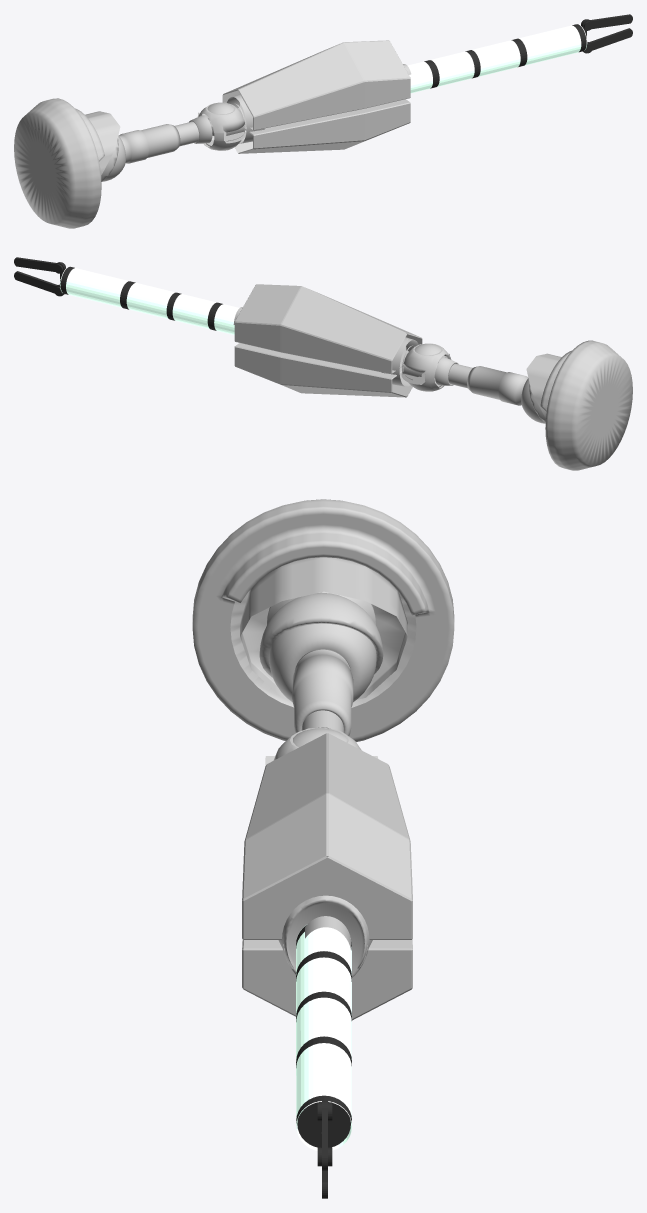
File: rightarm.fbx
The picture shows the model from 3 angles, top to bottom: view 1: azimuth 30°, elevation 25°; view 2: azimuth 150°, elevation 25°; view 3: azimuth 270°, elevation 25°; orthographic projection. The views are drawn at different scales.
Parts seen in each view (by area): view 1: LeftForearm, LeftArm.002, Cylinder.121, LeftElbow, UpperLeftArm, Cylinder.122, Cylinder.123, Cylinder.125; view 2: LeftForearm, LeftArm.002, Cylinder.121, LeftElbow, UpperLeftArm, Cylinder.122, Cylinder.123, Cylinder.125; view 3: LeftArm.002, LeftForearm, Cylinder.121, UpperLeftArm, Cylinder.122, LeftElbow, Cylinder.127.
Part boxes in pixels (x1,y1,x2,y2): LeftForearm: [197, 40, 411, 153]; LeftArm.002: [14, 98, 125, 228]; Cylinder.121: [407, 24, 587, 93]; LeftElbow: [175, 102, 245, 150]; UpperLeftArm: [119, 124, 180, 163]; Cylinder.122: [424, 24, 586, 88]; Cylinder.123: [581, 14, 632, 30]; Cylinder.125: [583, 28, 632, 53]; LeftForearm: [233, 284, 449, 397]; LeftArm.002: [521, 340, 632, 470]; Cylinder.121: [60, 266, 239, 335]; LeftElbow: [402, 339, 472, 391]; UpperLeftArm: [467, 366, 528, 405]; Cylinder.122: [60, 266, 222, 330]; Cylinder.123: [14, 257, 65, 273]; Cylinder.125: [14, 271, 64, 296]; LeftArm.002: [192, 499, 454, 741]; LeftForearm: [242, 733, 412, 1020]; Cylinder.121: [296, 924, 351, 1150]; UpperLeftArm: [292, 649, 353, 735]; Cylinder.122: [296, 925, 351, 1123]; LeftElbow: [273, 710, 361, 760]; Cylinder.127: [297, 1102, 350, 1147].
Bounding box in the file's own units: 2.11 × 0.4068 × 0.4068.
